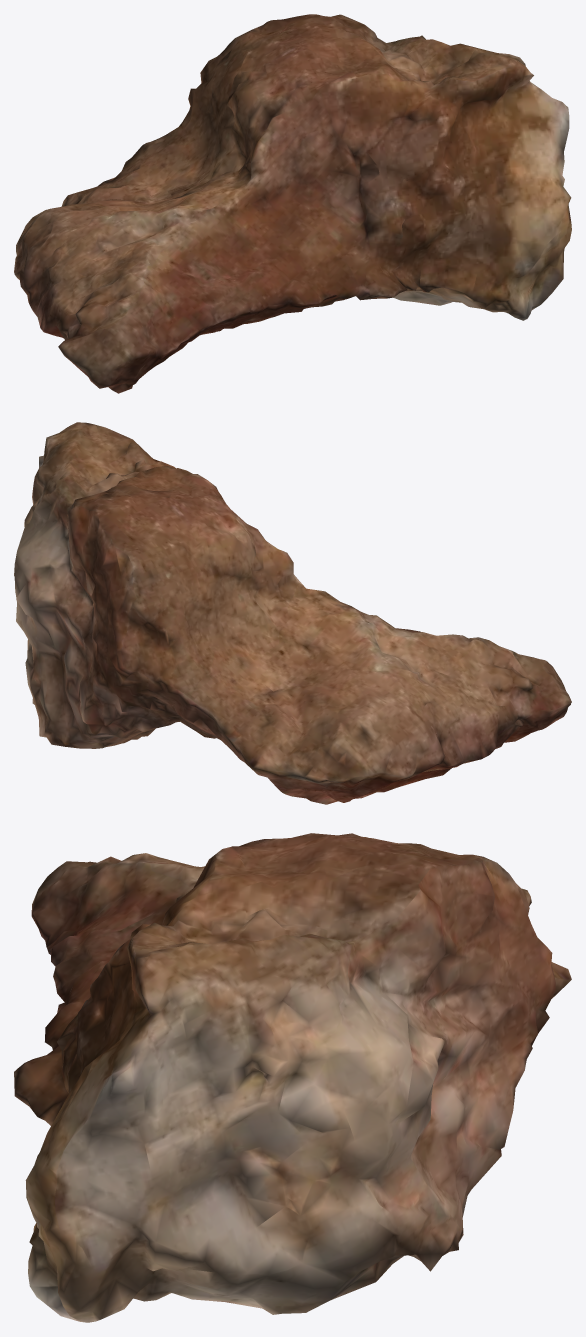
Rendered from stone_01.glb.
3 renders of one model, top to bottom at view 1: azimuth 30°, elevation 25°; view 2: azimuth 150°, elevation 25°; view 3: azimuth 270°, elevation 25°, orthographic. The views are drawn at different scales.
Visible parts, largest first — view 1: stone_01; view 2: stone_01; view 3: stone_01.
Part boxes in pixels (bbox=[...]): stone_01: bbox=[14, 14, 571, 393]; stone_01: bbox=[14, 422, 571, 804]; stone_01: bbox=[14, 833, 571, 1322].
Size of the model in its own units: 0.1469 by 0.0718 by 0.089.
Materials: 1 (1 with a texture image).
